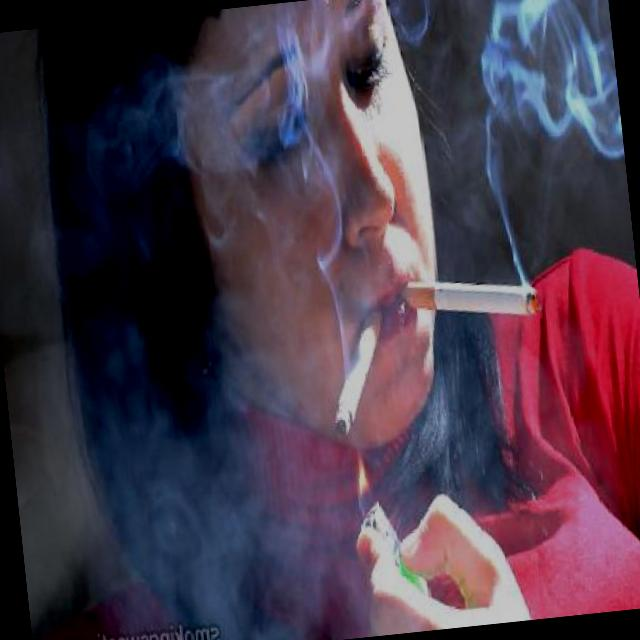smoke: (318, 296, 402, 453), (392, 260, 552, 342)
